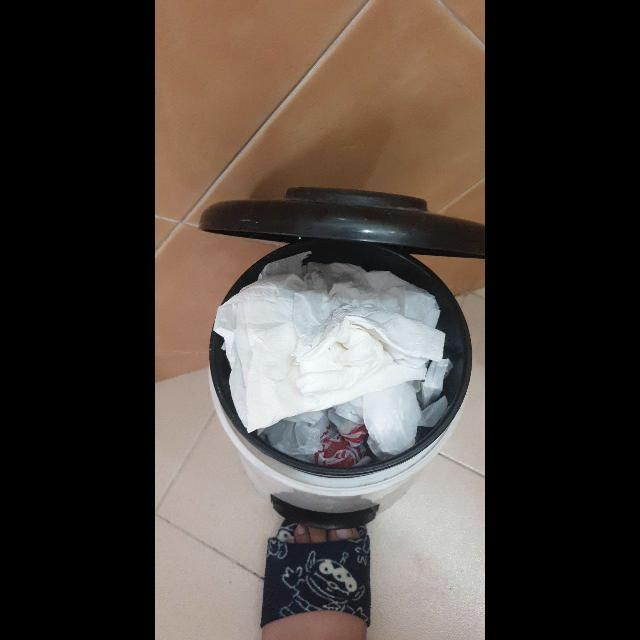paper: (212, 252, 445, 433)
plastic_bag: (263, 359, 452, 468)
